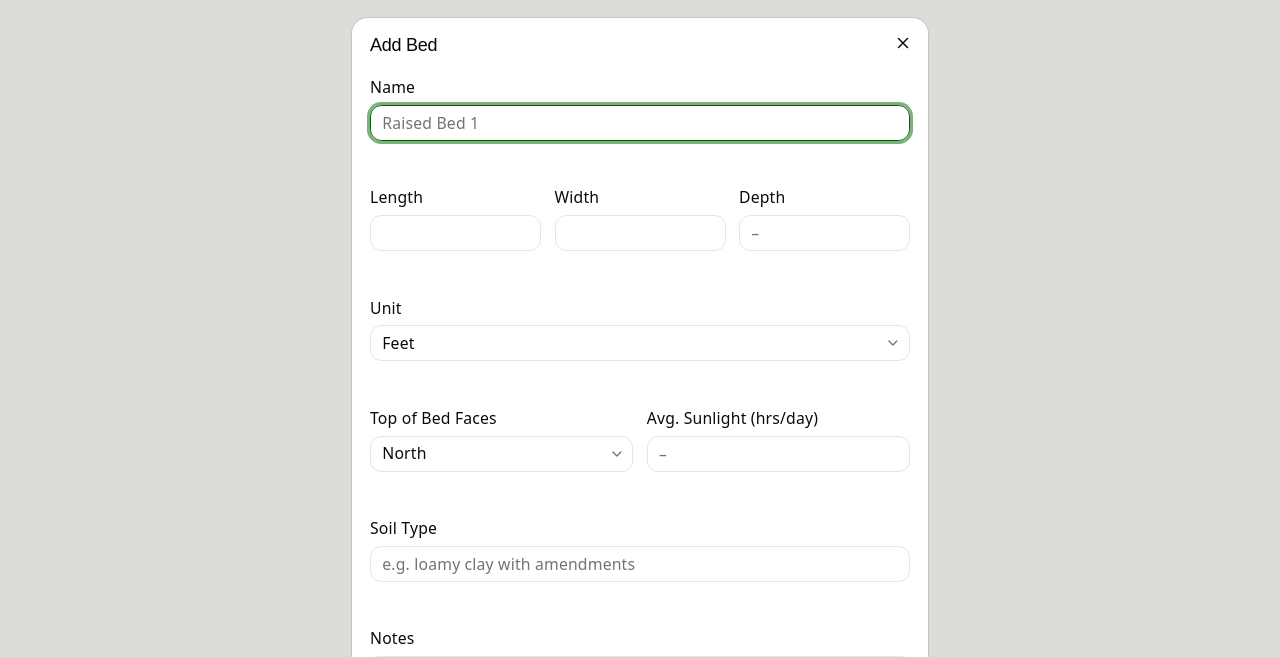
Scenario: BedDialog › shows a field validation error when a required field is emptied
In the field labelled "Name": (640, 123) [370,105,910,141], type "a"
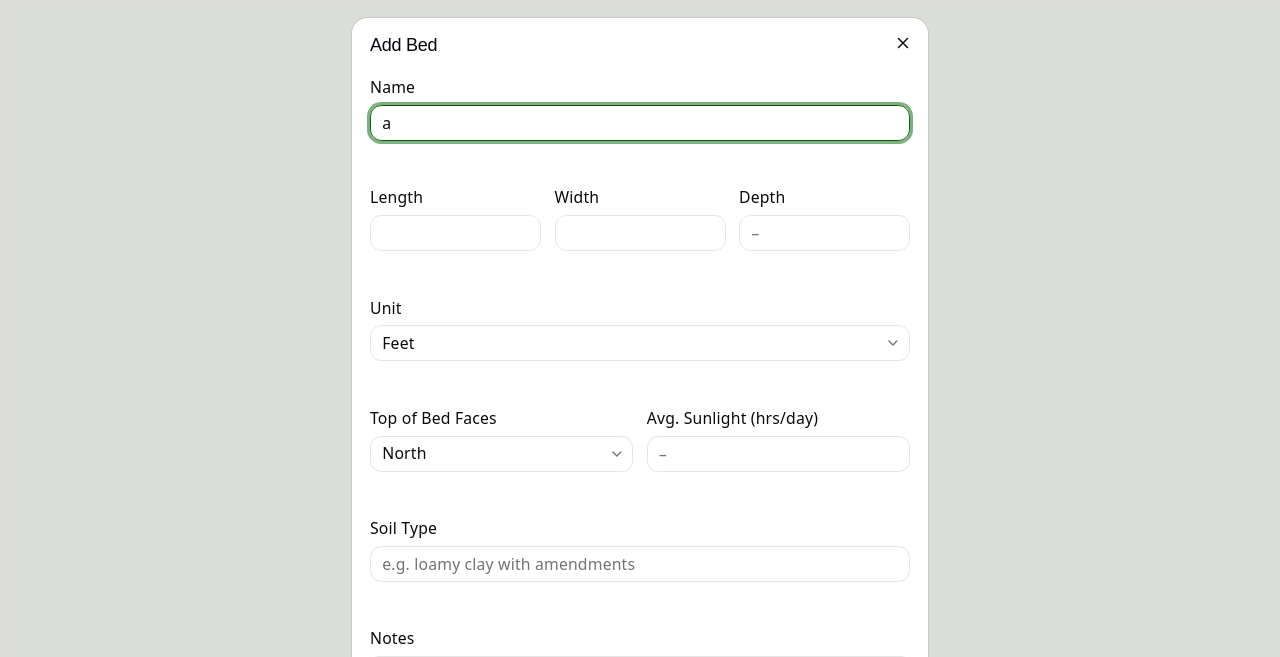
Clear the field labelled "Name": (640, 123) [370,105,910,141]
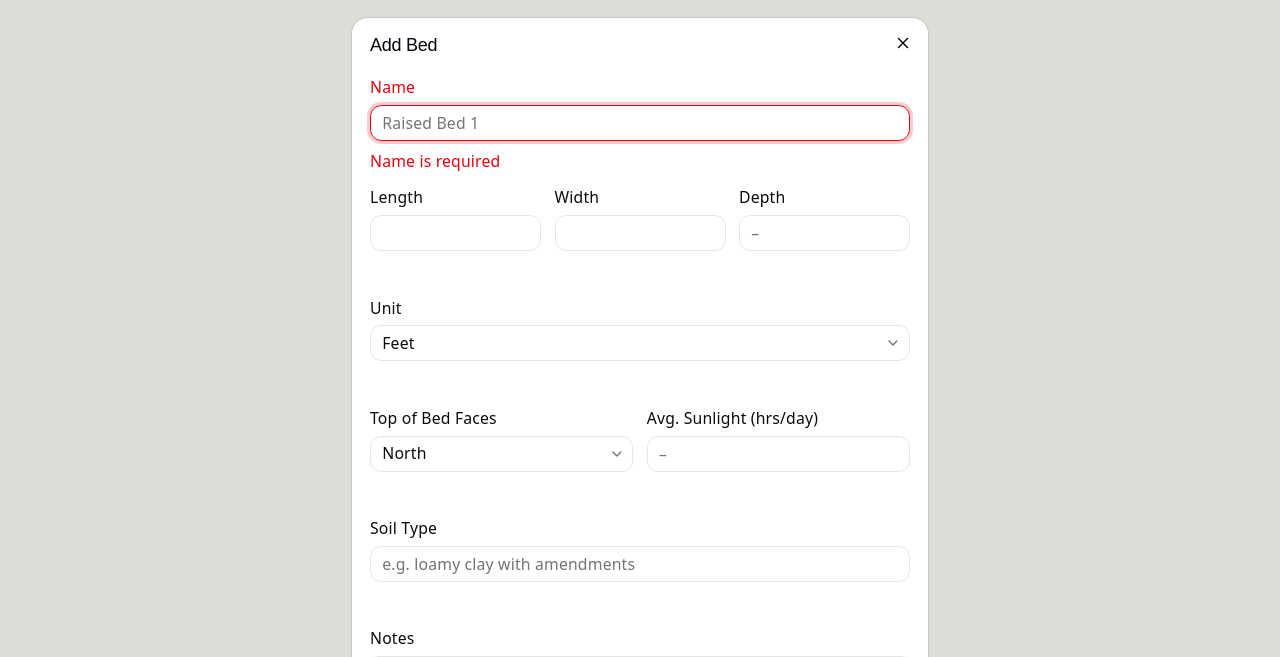
Now the text "Name is required" is shown, box [370,150,500,172]
